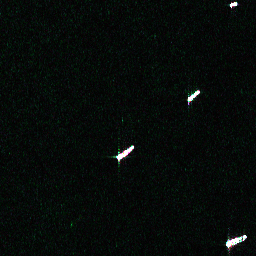ship: (114, 141, 136, 162), (223, 232, 250, 249), (184, 87, 202, 104), (228, 1, 239, 8)
